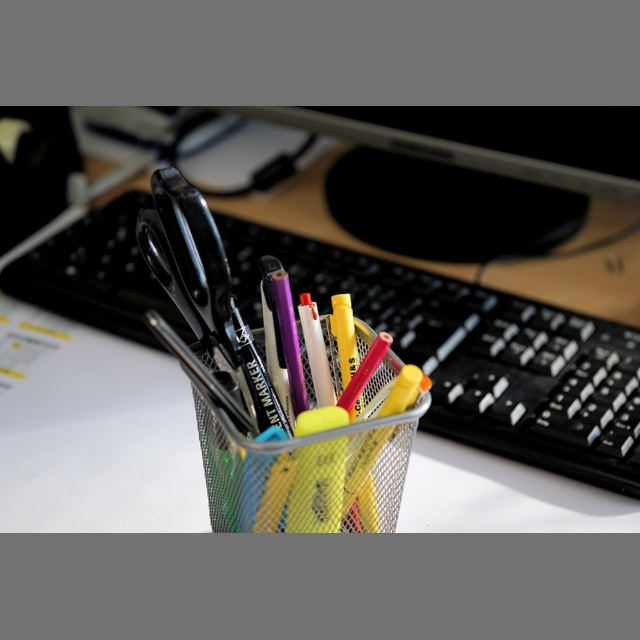scissor: (88, 151, 245, 397)
